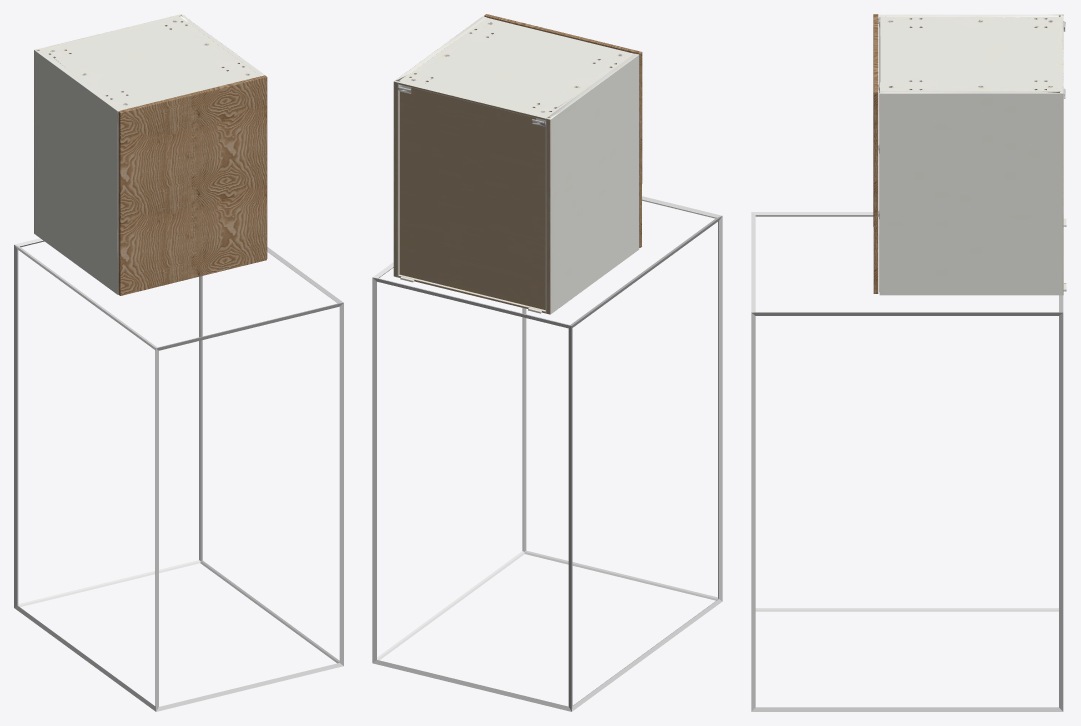
Rendered from AdaptaHouse.glb.
The picture shows the model from 3 angles, left to right: view 1: azimuth 30°, elevation 25°; view 2: azimuth 150°, elevation 25°; view 3: azimuth 270°, elevation 25°; orthographic projection. The views are drawn at different scales.
Visible parts, largest first — view 1: METOD_695.073.002, METOD_695.073.004, Cube; view 2: METOD_695.073.004, Cube, METOD_695.073.002; view 3: METOD_695.073.004, Cube, METOD_695.073.002.
Boxes of the visible parts, x1,y1,x2,y2 form: METOD_695.073.002: (118,75,267,295); METOD_695.073.004: (34,14,264,294); Cube: (14,238,343,711); METOD_695.073.004: (393,16,639,314); Cube: (372,196,722,711); METOD_695.073.002: (484,14,642,247); METOD_695.073.004: (879,14,1066,295); Cube: (751,212,1063,711); METOD_695.073.002: (873,14,880,293).
Size of the model in its own units: 7.62 by 21.48 by 10.1.
2 materials, 2 textured.
